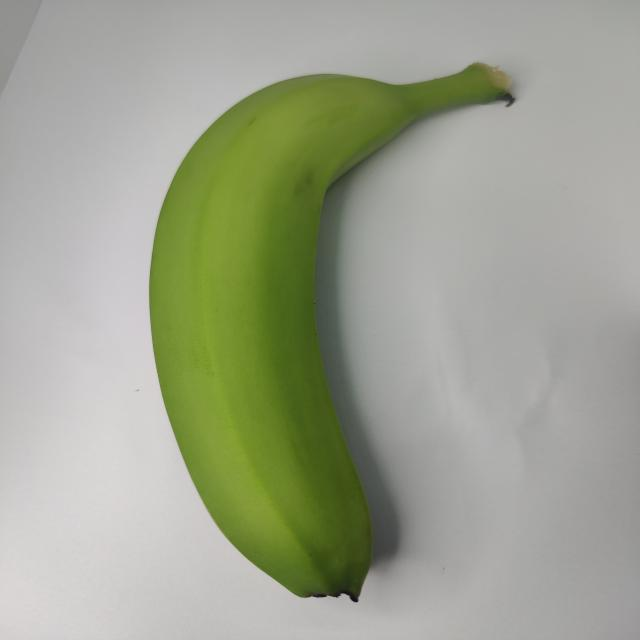raw: (109, 48, 542, 602)
